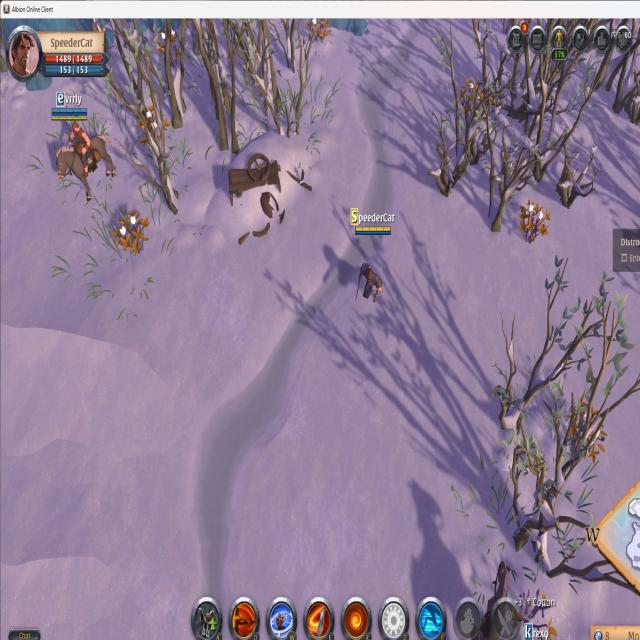cotton: (565, 395, 607, 467), (110, 210, 150, 260), (519, 196, 552, 245), (136, 102, 170, 148), (459, 72, 487, 124), (153, 25, 186, 68), (305, 15, 333, 47)
